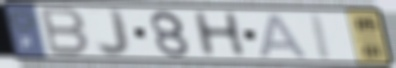8: (149, 10, 191, 58)
A: (258, 12, 312, 59)
B: (39, 5, 92, 58)
H: (189, 10, 250, 59)
I: (307, 11, 335, 61)
J: (95, 7, 133, 59)
